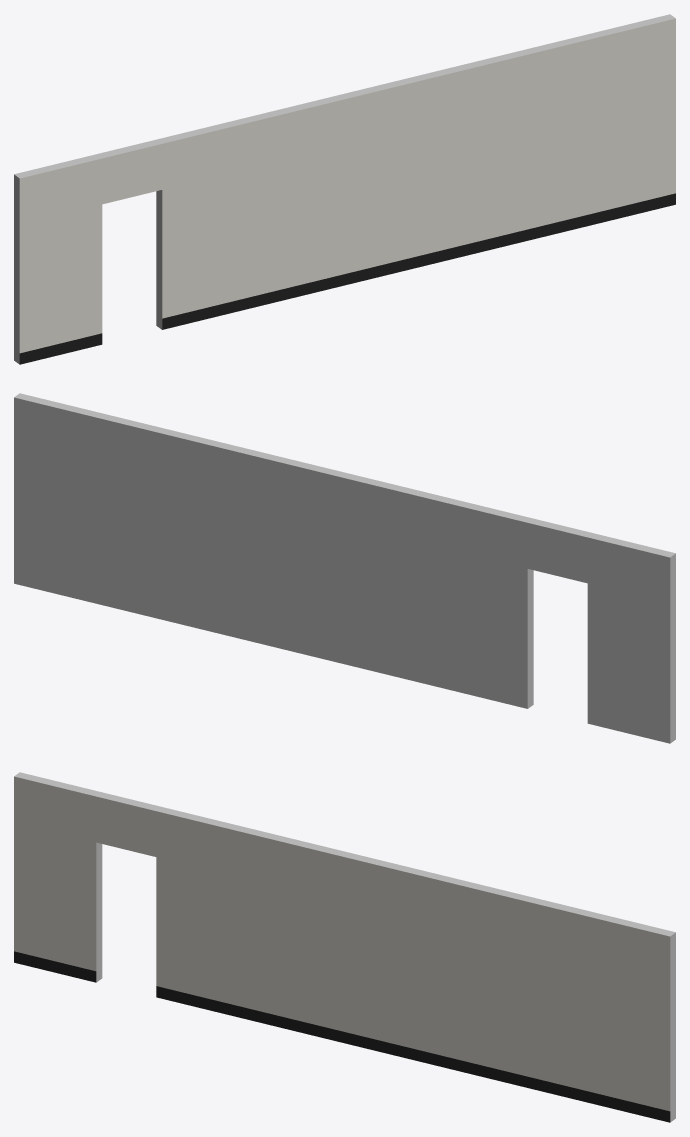
Rendered from Wall 1.fbx.
3 renders of one model, top to bottom at view 1: azimuth 30°, elevation 25°; view 2: azimuth 150°, elevation 25°; view 3: azimuth 330°, elevation 25°, orthographic.
Visible parts, largest first — view 1: Wall 1; view 2: Wall 1; view 3: Wall 1.
Boxes of the visible parts, bbox=[...] form: Wall 1: bbox=[14, 14, 675, 364]; Wall 1: bbox=[14, 393, 675, 743]; Wall 1: bbox=[14, 772, 675, 1122].
Size of the model in its own units: 1005 by 272 by 15.43.
